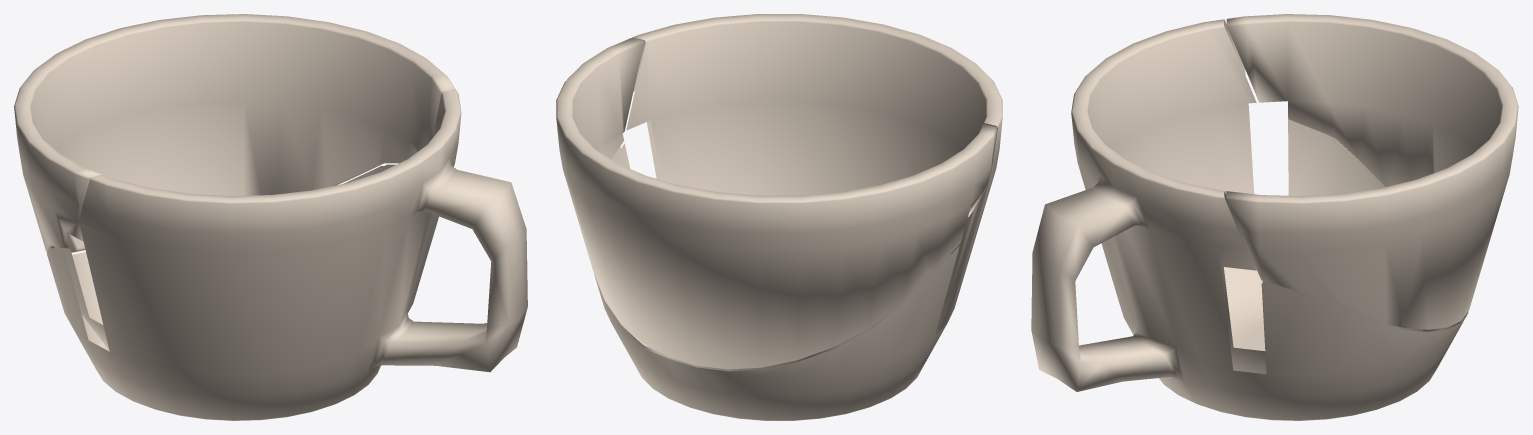
Rendered from Cup.fbx.
3 views of the same model, side by side, from view 1: azimuth 30°, elevation 25°; view 2: azimuth 150°, elevation 25°; view 3: azimuth 270°, elevation 25° (orthographic).
Visible parts, largest first — view 1: Circle, Circle.001; view 2: Circle, Circle.001; view 3: Circle, Circle.001.
Part boxes in pixels (left/top/right/bottom): Circle: left=47, top=89, right=527, bottom=420; Circle.001: left=14, top=14, right=455, bottom=252; Circle: left=594, top=14, right=1002, bottom=420; Circle.001: left=556, top=38, right=997, bottom=369; Circle: left=1031, top=19, right=1468, bottom=420; Circle.001: left=1226, top=14, right=1518, bottom=329.
Size of the model in its own units: 637 by 400 by 694.
